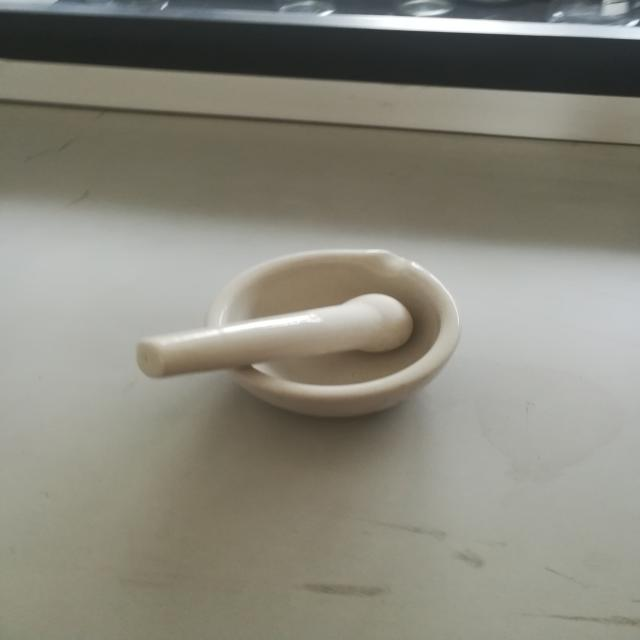Porcelain_Mortar Pestle: (104, 198, 526, 448)
